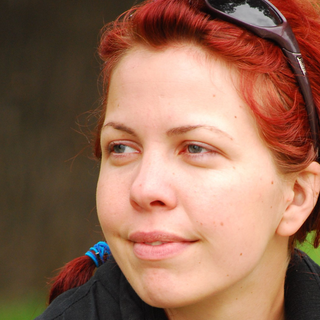eye: (175, 139, 224, 163), (103, 136, 144, 163)
